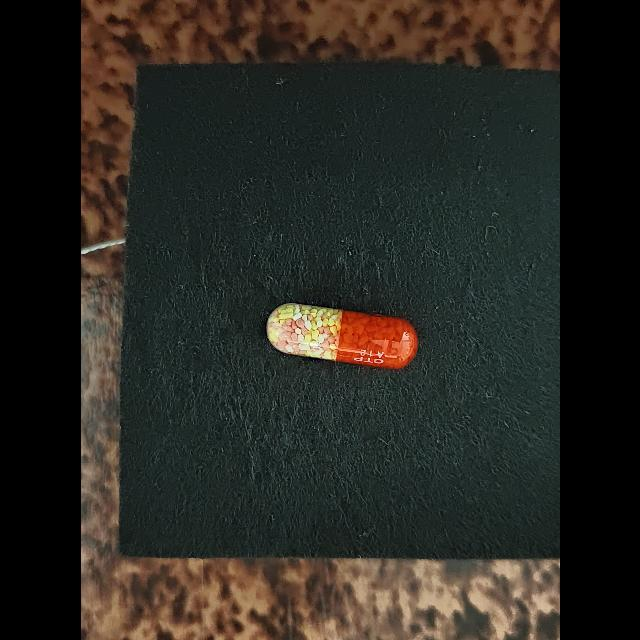Intact Capsule: (266, 303, 418, 369)
